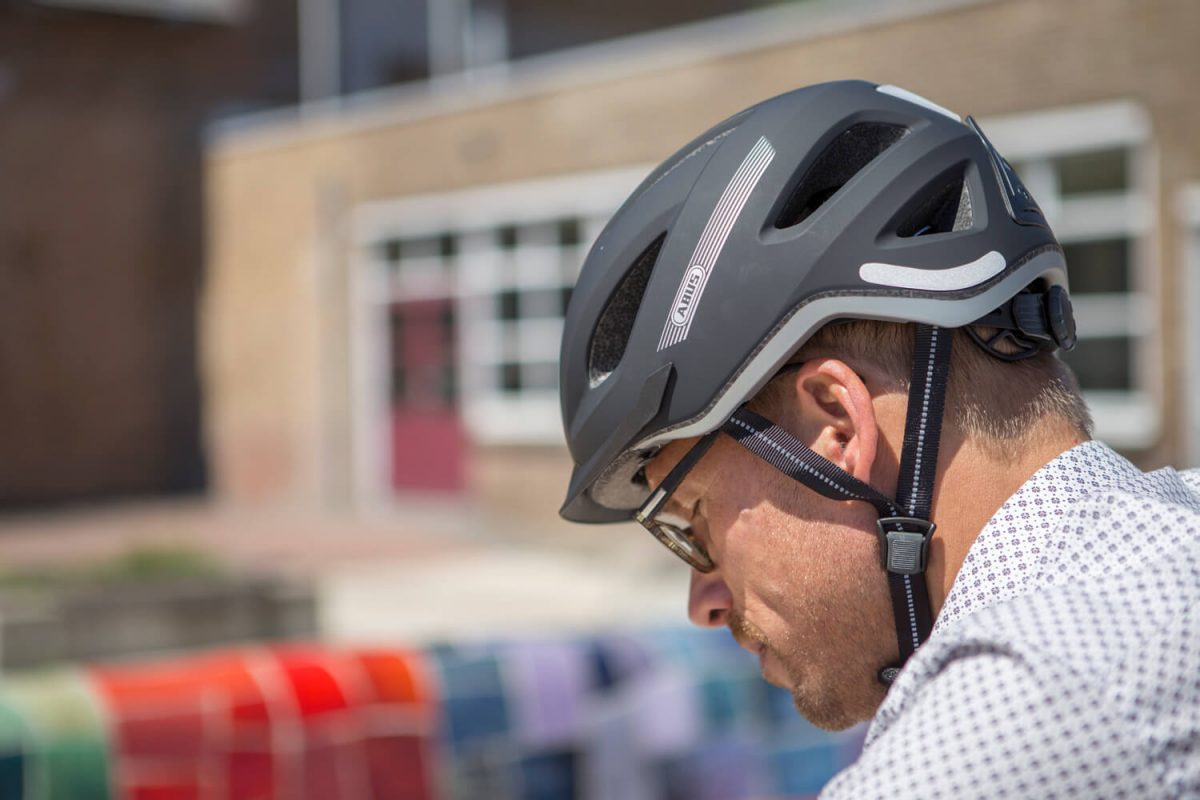helmet: (545, 78, 1077, 398)
